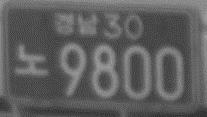0: (155, 46, 185, 102), (123, 45, 151, 99), (122, 14, 144, 40)
3: (102, 12, 121, 40)
8: (92, 43, 119, 97)
9: (58, 43, 88, 96)
경남_O: (52, 11, 100, 37)
노: (13, 43, 47, 76)
